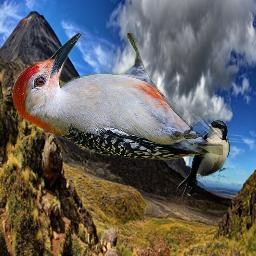Swallow: (177, 120, 230, 199)
Woodpecker: (13, 33, 223, 160)
